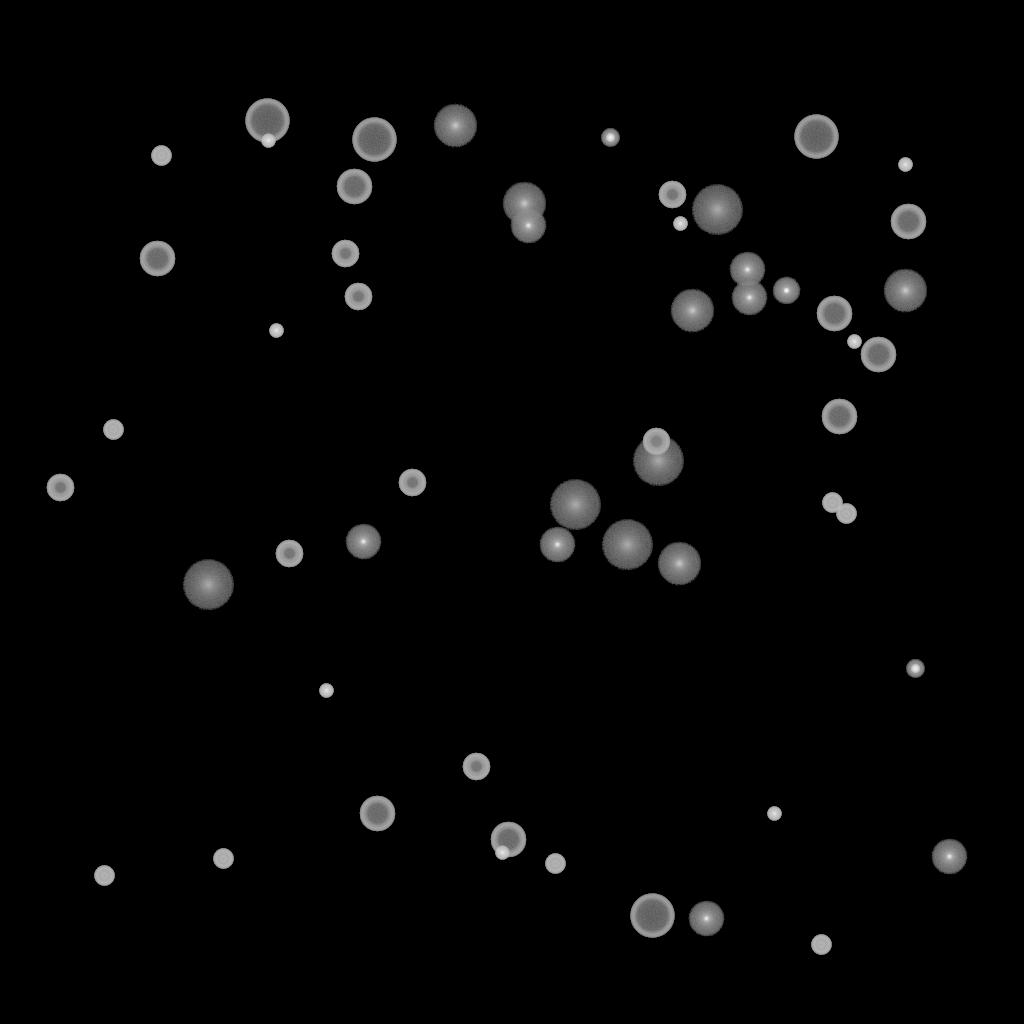depth:-10: (772, 277, 800, 305)
depth:-20: (601, 129, 619, 147), (906, 660, 924, 678)
depth:-30: (319, 684, 333, 698), (847, 335, 861, 349), (898, 158, 912, 172), (269, 324, 283, 338), (673, 217, 687, 231), (495, 846, 509, 860), (261, 134, 275, 148), (767, 807, 781, 821)
depth:-40: (811, 935, 831, 955), (103, 420, 123, 440), (213, 849, 233, 869), (822, 493, 842, 513), (94, 866, 114, 886), (151, 146, 171, 166), (836, 504, 856, 524), (545, 854, 565, 874)
depth:-50: (462, 753, 490, 781), (331, 240, 359, 268), (275, 540, 303, 568), (344, 283, 372, 311), (642, 428, 670, 456), (398, 469, 426, 497), (46, 474, 74, 502), (658, 181, 686, 209)
depth:-60: (860, 337, 896, 373), (821, 399, 857, 435), (336, 169, 372, 205), (816, 296, 852, 332), (359, 796, 395, 832), (139, 241, 175, 277), (890, 204, 926, 240), (490, 822, 526, 858)
depth:-70: (352, 118, 396, 162), (630, 894, 674, 938), (245, 99, 289, 143), (794, 115, 838, 159)
depth:0: (510, 208, 546, 244), (688, 901, 724, 937), (731, 280, 767, 316), (931, 839, 967, 875), (345, 524, 381, 560), (729, 252, 765, 288), (539, 527, 575, 563)
depth:10: (433, 104, 477, 148), (502, 182, 546, 226), (670, 289, 714, 333), (883, 269, 927, 313), (657, 542, 701, 586)
depth:20: (549, 480, 601, 530), (182, 560, 234, 610), (691, 185, 743, 235), (601, 520, 653, 570), (632, 436, 684, 486)
